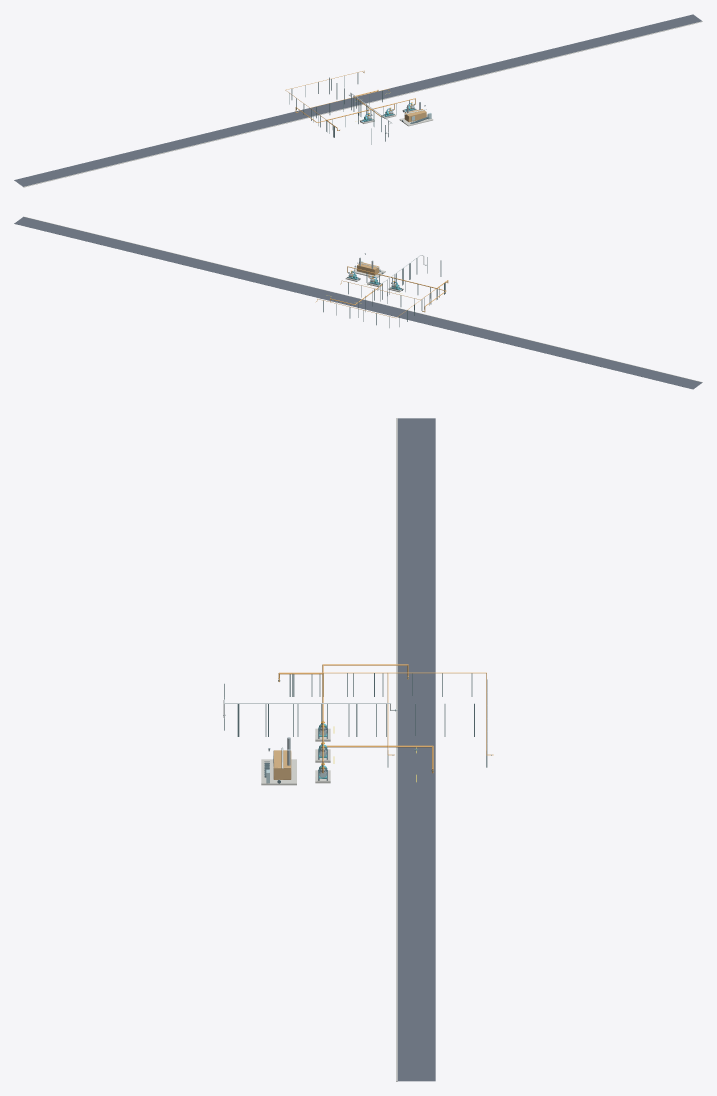
3 renders of one model, top to bottom at view 1: azimuth 30°, elevation 25°; view 2: azimuth 150°, elevation 25°; view 3: azimuth 270°, elevation 25°, orthographic. The views are drawn at different scales.
Parts seen in each view (by area): view 1: render-batch-3, render-batch-10, render-batch-4, render-batch-12; view 2: render-batch-3, render-batch-10, render-batch-4, render-batch-12; view 3: render-batch-3, render-batch-12, render-batch-10, render-batch-4.
Boxes of the visible parts, <box> form: render-batch-3: <box>14,14,701,186</box>; render-batch-10: <box>23,21,702,187</box>; render-batch-4: <box>289,72,413,144</box>; render-batch-12: <box>285,70,415,130</box>; render-batch-3: <box>14,217,702,389</box>; render-batch-10: <box>23,216,702,382</box>; render-batch-4: <box>323,257,445,327</box>; render-batch-12: <box>315,266,448,317</box>; render-batch-3: <box>397,418,435,1081</box>; render-batch-12: <box>278,664,493,773</box>; render-batch-10: <box>396,418,397,1081</box>; render-batch-4: <box>223,673,491,771</box>.
Bounding box in the file's own units: 286 × 7.21 × 49.28.
